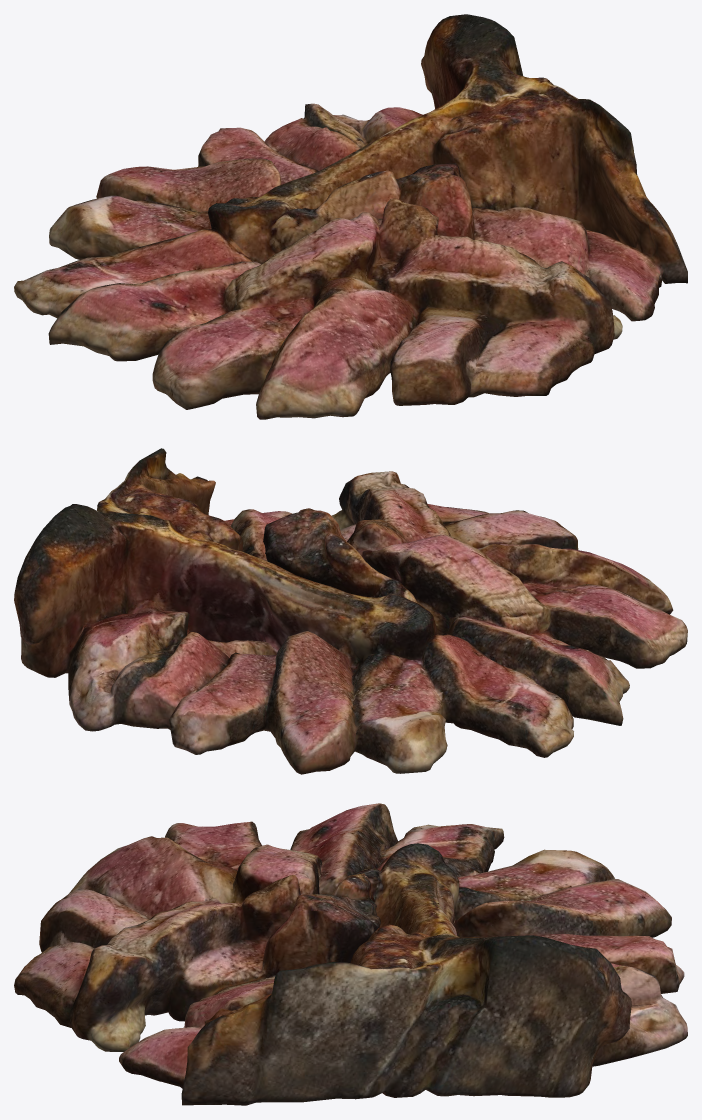
The model's file is bife-fatiado-v03.glb.
3 views of the same model, one above another, from view 1: azimuth 30°, elevation 25°; view 2: azimuth 150°, elevation 25°; view 3: azimuth 270°, elevation 25° (orthographic). The views are drawn at different scales.
Visible parts, largest first — view 1: Object_3; view 2: Object_3; view 3: Object_3.
Part boxes in pixels (bbox=[...]): Object_3: bbox=[14, 14, 687, 419]; Object_3: bbox=[14, 448, 687, 774]; Object_3: bbox=[14, 803, 687, 1105].
Size of the model in its own units: 0.26 by 0.0668 by 0.2656.
Materials: 1 (1 with a texture image).
